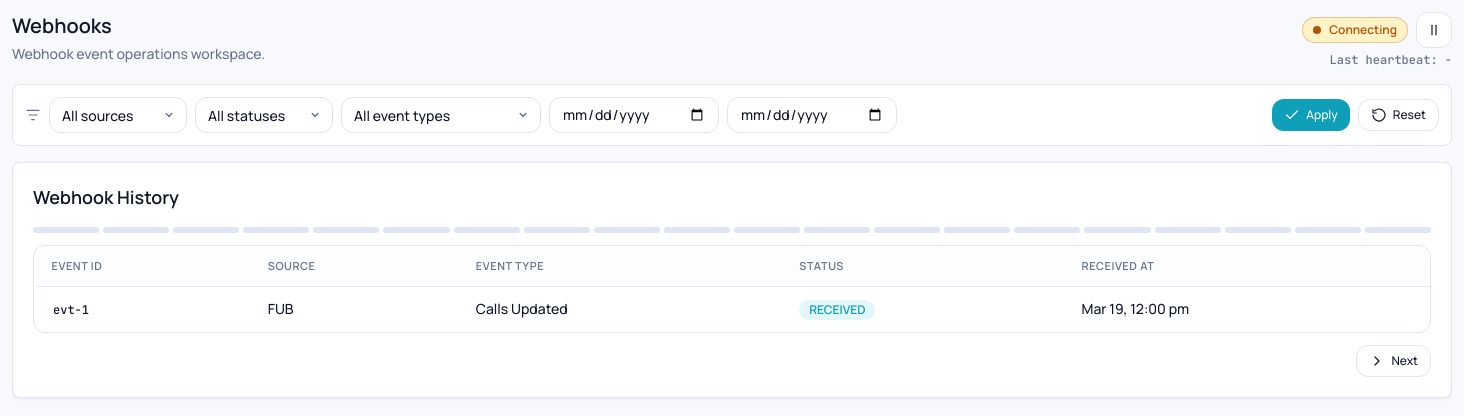
Test: Webhooks page Step 3 › pauses by closing stream and applies filters on loaded rows only
Expected: the text "evt-1" is shown, [53,302,89,318]
Click the button named "Pause webhook live stream": x=1434, y=30 [1416,12,1452,48]
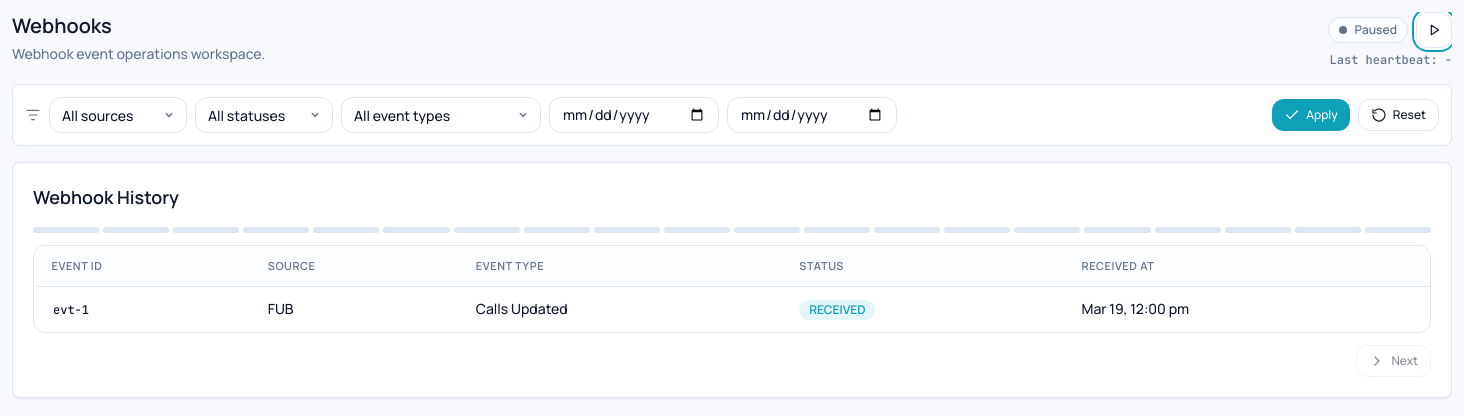
Now the element with test id "webhook-live-state" reads "Paused", box [1355,21,1397,38]
Select "Calls Created" in the dropdown named "Event Type": x=441, y=115 [341,97,541,133]
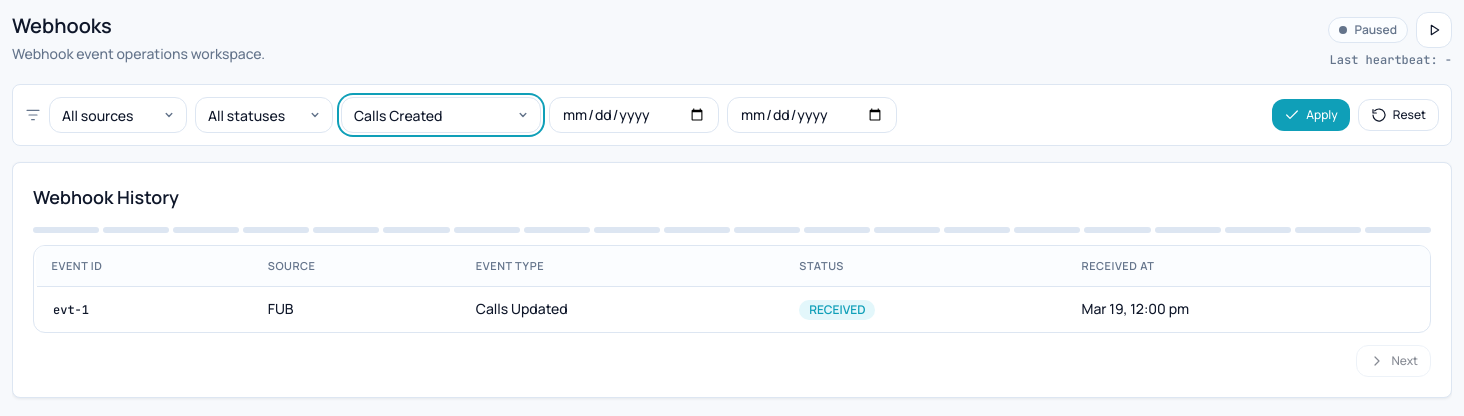
Click the button "Apply": x=1311, y=115 [1272,99,1350,131]
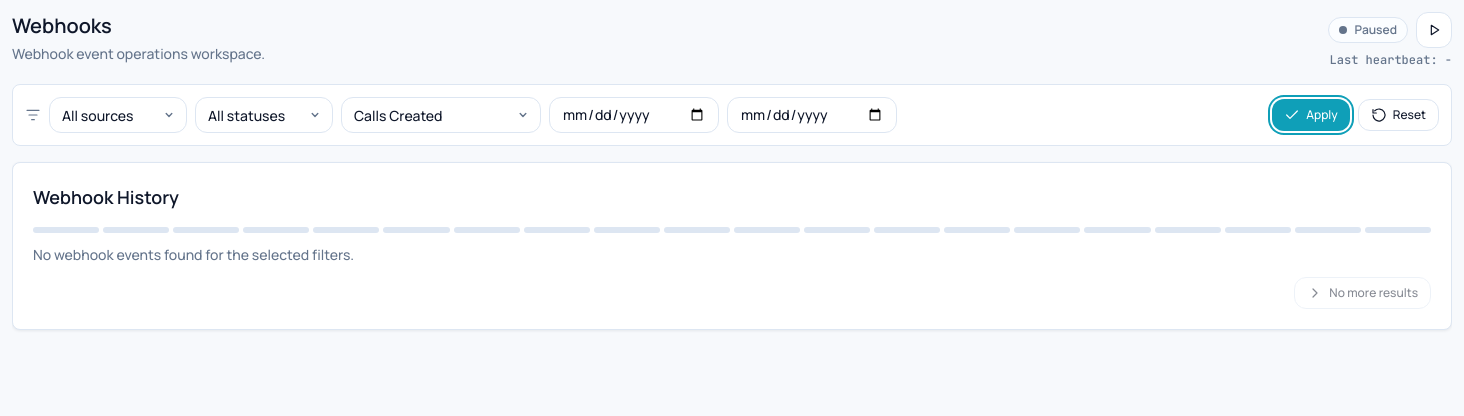
Now the button "evt-1" is gone
Now the text "No webhook events found for the selected filters." is shown, box [33,245,354,264]
